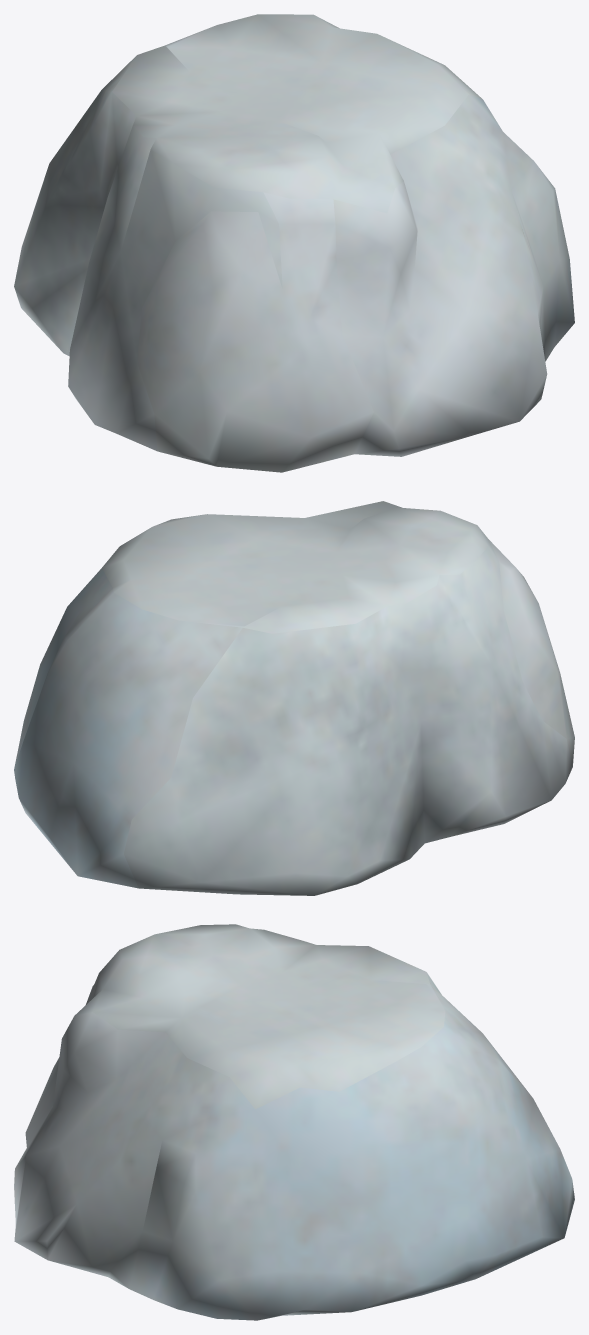
The model's file is P_ShelfClassic2.obj.
3 views of the same model, one above another, from view 1: azimuth 30°, elevation 25°; view 2: azimuth 150°, elevation 25°; view 3: azimuth 270°, elevation 25° (orthographic). The views are drawn at different scales.
Size of the model in its own units: 16.31 by 8.29 by 18.36.
